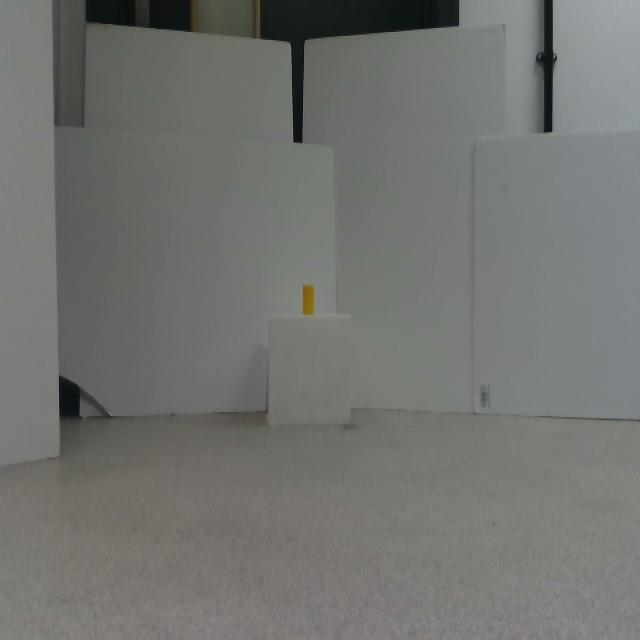yellow_cylinder: (303, 285, 314, 315)
